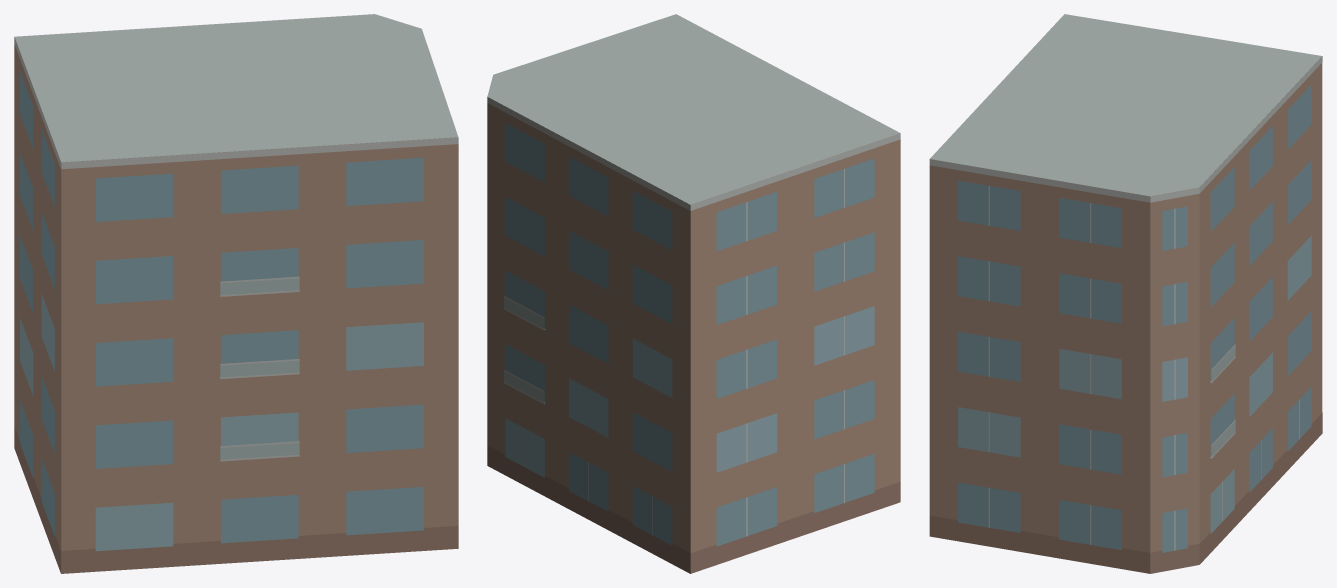
Rendered from survey-upis-32944035.glb.
3 renders of one model, left to right at view 1: azimuth 30°, elevation 25°; view 2: azimuth 150°, elevation 25°; view 3: azimuth 270°, elevation 25°, orthographic. The views are drawn at different scales.
Parts seen in each view (by area): view 1: survey-upis-32944035.tmp; view 2: survey-upis-32944035.tmp; view 3: survey-upis-32944035.tmp.
Part boxes in pixels (left/top/right/bottom): survey-upis-32944035.tmp: left=14, top=14, right=458, bottom=573; survey-upis-32944035.tmp: left=487, top=14, right=900, bottom=573; survey-upis-32944035.tmp: left=929, top=14, right=1322, bottom=573.
Bounding box in the file's own units: 15.14 × 14.6 × 13.78.
